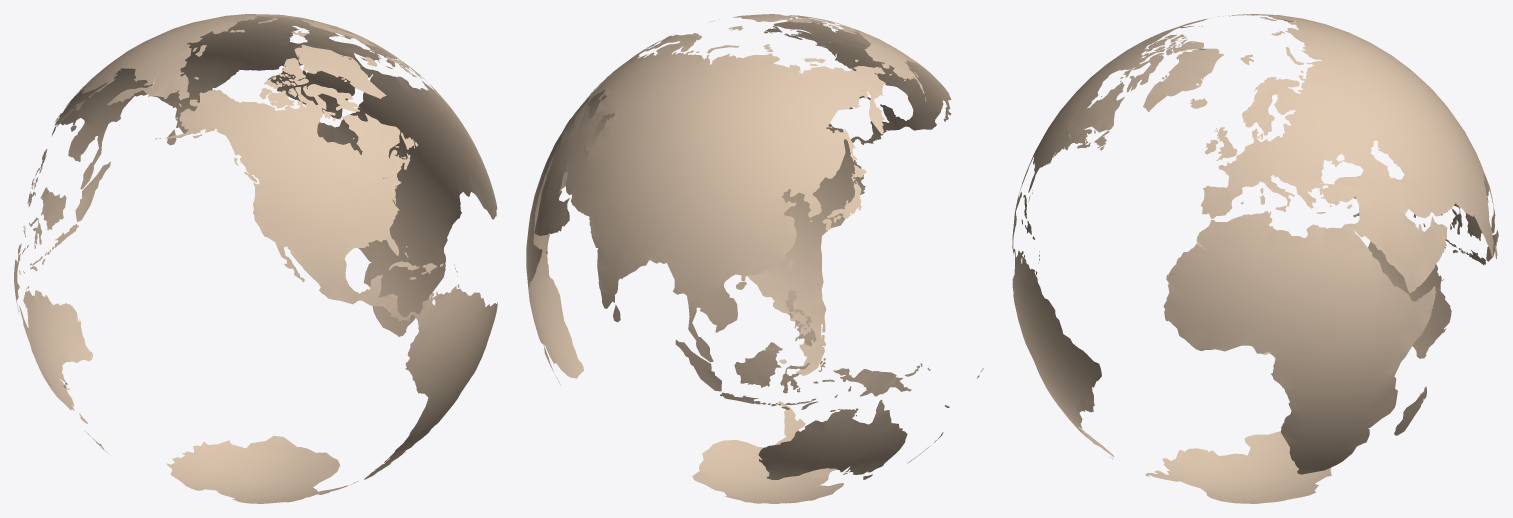
Rendered from globe with texture 1.glb.
3 renders of one model, left to right at view 1: azimuth 30°, elevation 25°; view 2: azimuth 150°, elevation 25°; view 3: azimuth 270°, elevation 25°, orthographic.
Visible parts, largest first — view 1: Object_2; view 2: Object_2; view 3: Object_2.
Boxes of the visible parts, bbox=[...] form: Object_2: bbox=[14, 14, 497, 503]; Object_2: bbox=[526, 14, 983, 503]; Object_2: bbox=[1012, 14, 1498, 503].
Size of the model in its own units: 0.9221 by 0.9498 by 0.9379.
